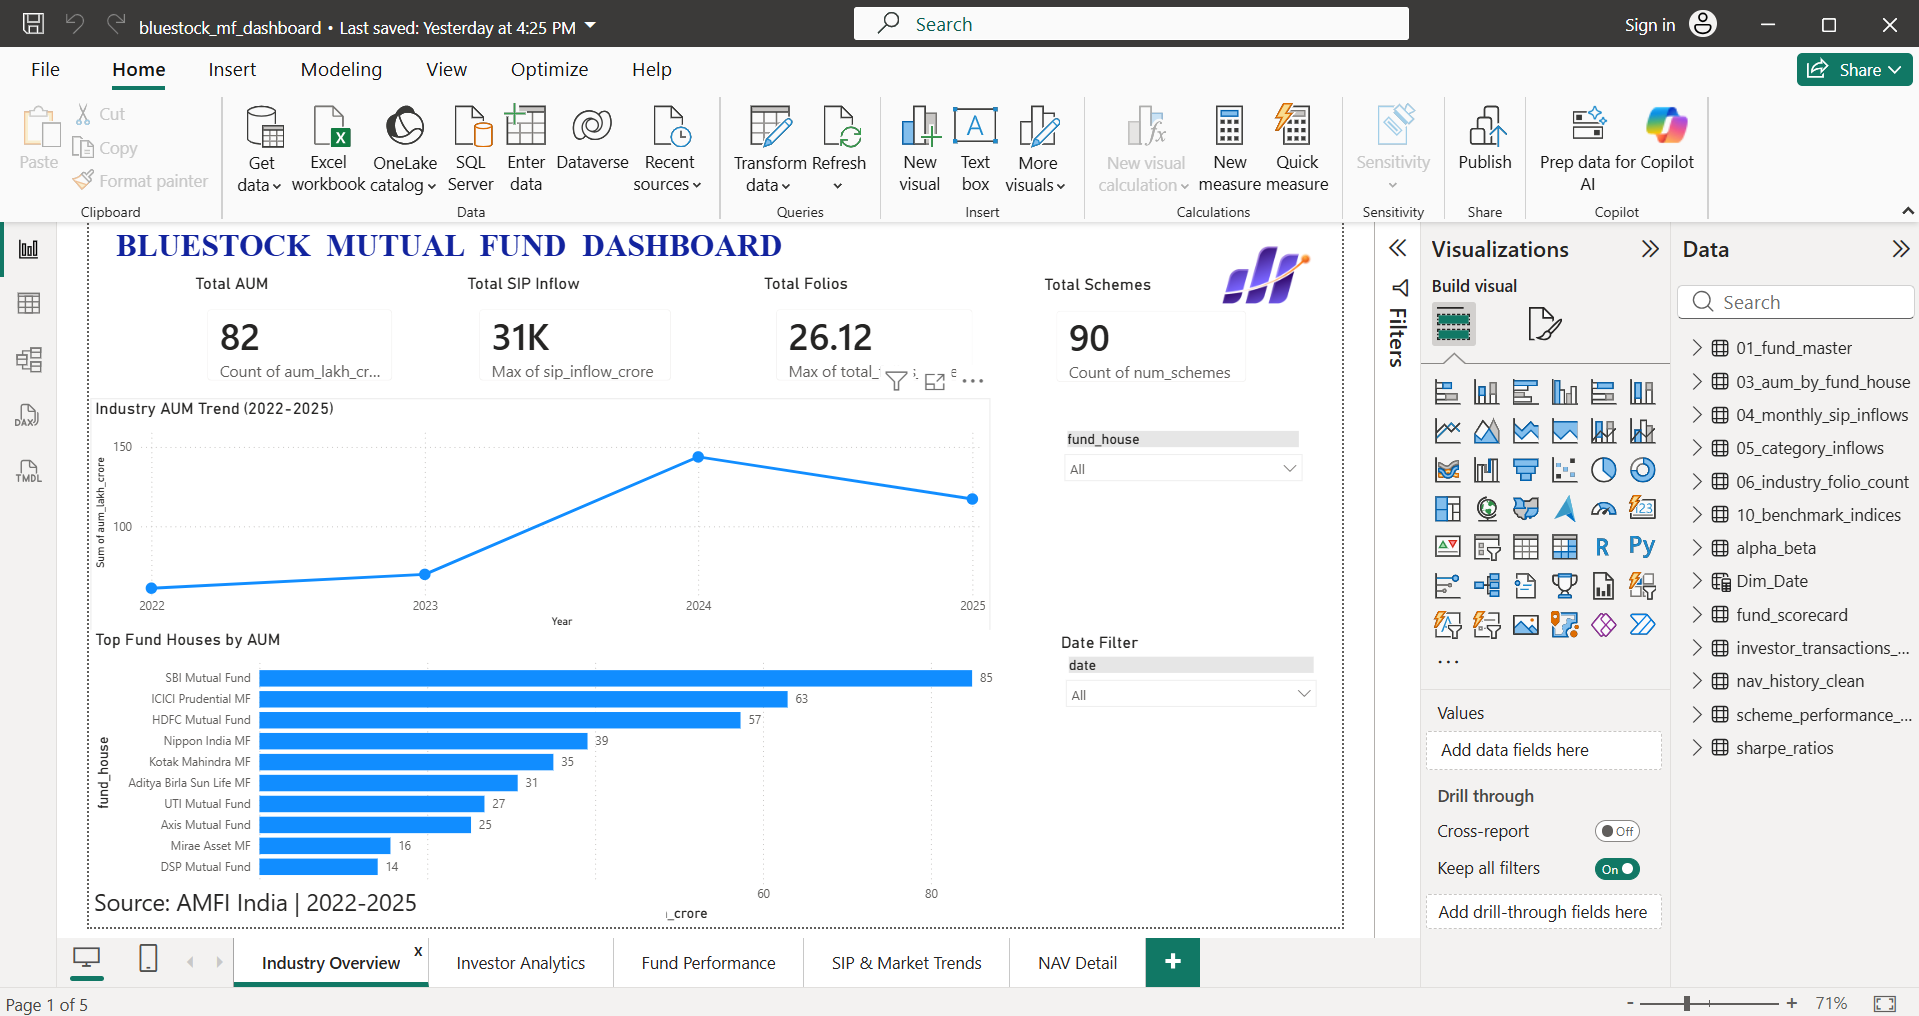

What the dashboard file says about the page in this screenshot:
{"tool":"powerbi","page":{"name":"Industry Overview","canvas":[1280,720],"ordinal":0},"visuals":[{"type":"cardVisual","title":"Total AUM ","fields":{"Data":["Count(03_aum_by_fund_house.aum_lakh_crore)"]},"box":[103.4,52.5,223.7,127.1],"z":0},{"type":"cardVisual","title":"Total SIP Inflow ","fields":{"Data":["Max(04_monthly_sip_inflows.sip_inflow_crore)"]},"box":[381.4,52.5,230.5,127.1],"z":1000},{"type":"cardVisual","title":"Total Folios ","fields":{"Data":["Max(06_industry_folio_count.total_folios_crore)"]},"box":[684.7,52.5,235.6,127.1],"z":2000},{"type":"cardVisual","title":"Total Schemes ","fields":{"Data":["CountNonNull(03_aum_by_fund_house.num_schemes)"]},"box":[971.2,54.2,228.8,127.1],"z":3000},{"type":"lineChart","title":"Industry AUM Trend (2022-2025)","fields":{"Category":["03_aum_by_fund_house.date.Variation.Date Hierarchy.Year"],"Y":["Sum(03_aum_by_fund_house.aum_lakh_crore)"]},"box":[1.7,179.7,918.6,239],"z":4000},{"type":"clusteredBarChart","title":"Top Fund Houses by AUM","fields":{"Category":["03_aum_by_fund_house.fund_house"],"Y":["Sum(03_aum_by_fund_house.aum_lakh_crore)"]},"box":[1.7,416.9,949.2,301.7],"z":5000},{"type":"slicer","fields":{"Values":["03_aum_by_fund_house.fund_house"]},"box":[986.4,208.5,262.7,150.8],"z":6000},{"type":"slicer","title":"Date Filter","fields":{"Values":["03_aum_by_fund_house.date"]},"box":[987.1,419.4,275.8,129],"z":7000},{"type":"textbox","box":[22.6,0,691.9,53.2],"z":8000},{"type":"textbox","box":[1000,548,263,172],"z":9000},{"type":"textbox","box":[0,672.9,589.8,47.5],"z":10000},{"type":"image","box":[1119.4,0,161.3,108.1],"z":11000}]}

Visuals, with their boxes on the page's 1280x720 design canvas (x1, y1, x2, y2). These are canvas units, not pixel positions in the 1919x1016 screenshot, which may show the page scaled, cropped or inside an application window:
"Total AUM " cardVisual: select_region(103, 52, 327, 180)
"Total SIP Inflow " cardVisual: select_region(381, 52, 612, 180)
"Total Folios " cardVisual: select_region(685, 52, 920, 180)
"Total Schemes " cardVisual: select_region(971, 54, 1200, 181)
"Industry AUM Trend (2022-2025)" lineChart: select_region(2, 180, 920, 419)
"Top Fund Houses by AUM" clusteredBarChart: select_region(2, 417, 951, 719)
slicer - 03_aum_by_fund_house.fund_house: select_region(986, 208, 1249, 359)
"Date Filter" slicer: select_region(987, 419, 1263, 548)
textbox: select_region(23, 0, 714, 53)
textbox: select_region(1000, 548, 1263, 720)
textbox: select_region(0, 673, 590, 720)
image: select_region(1119, 0, 1281, 108)
